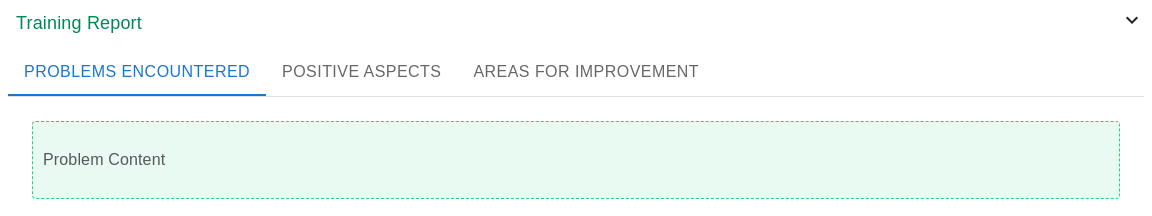
Test: OverallTrainingCampReport › switches to 'Areas for Improvement' tab and shows correct content
Click the tab "AREAS FOR IMPROVEMENT". click: (586, 72)
box: top-left (458, 48), bottom-right (715, 96)
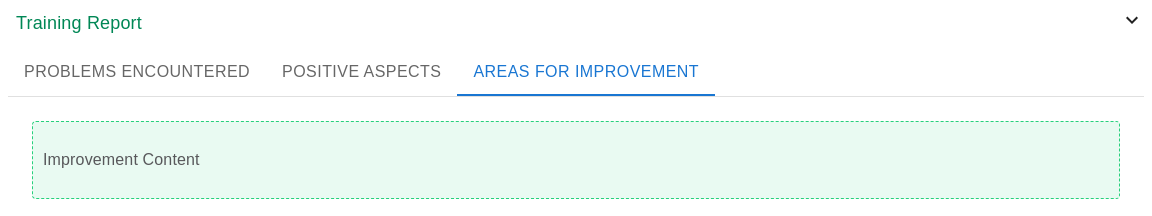
Expected: the text "Improvement Content" is shown, top-left (43, 150), bottom-right (200, 168)
